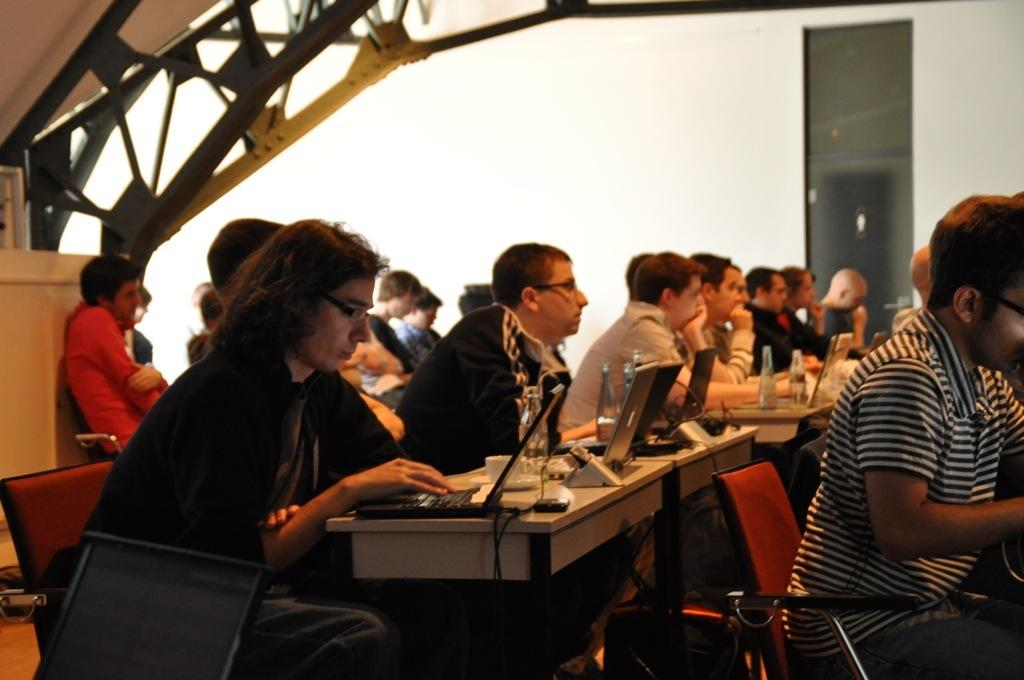Laptop: (32, 529, 271, 679), (355, 383, 565, 518)
